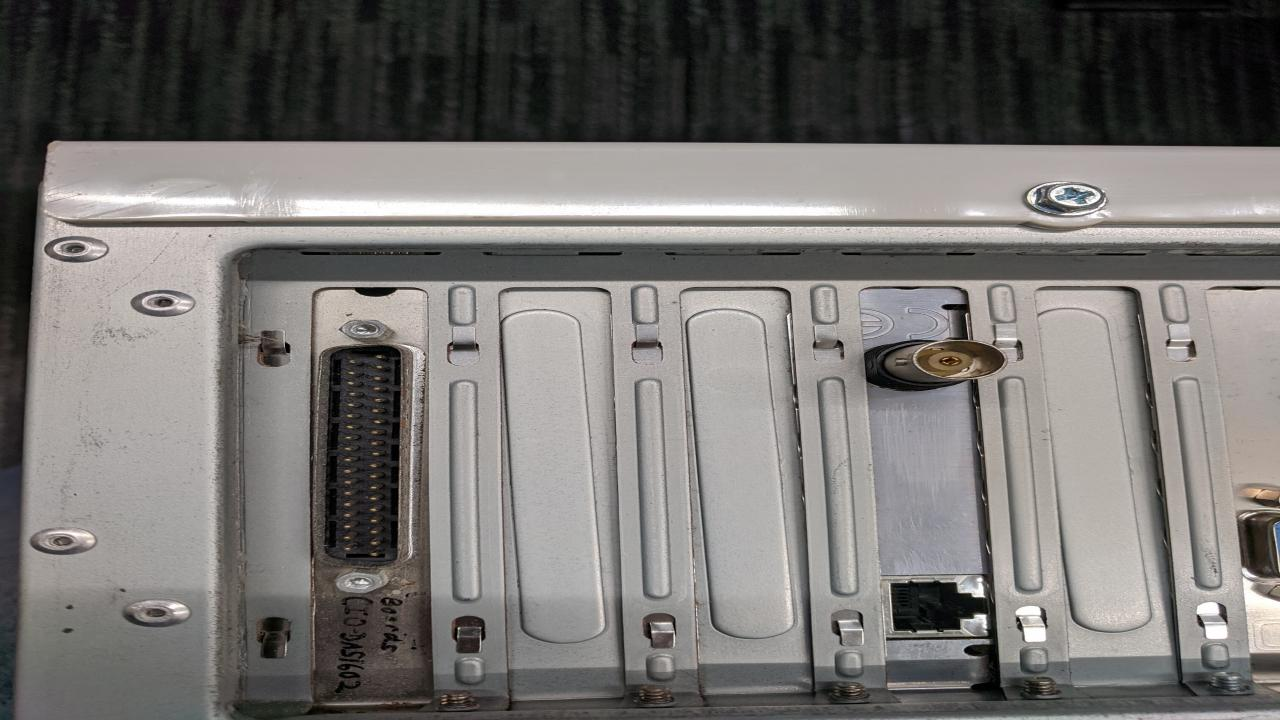CRS: (1030, 182, 1109, 214)
